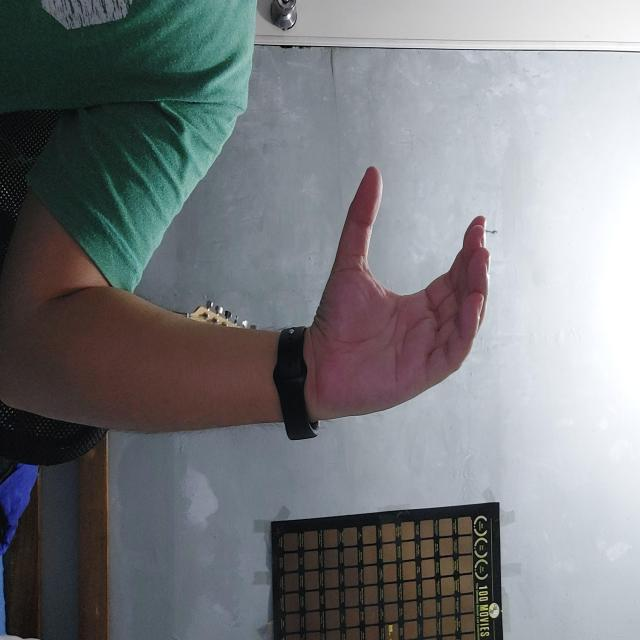C: (249, 137, 522, 506)
